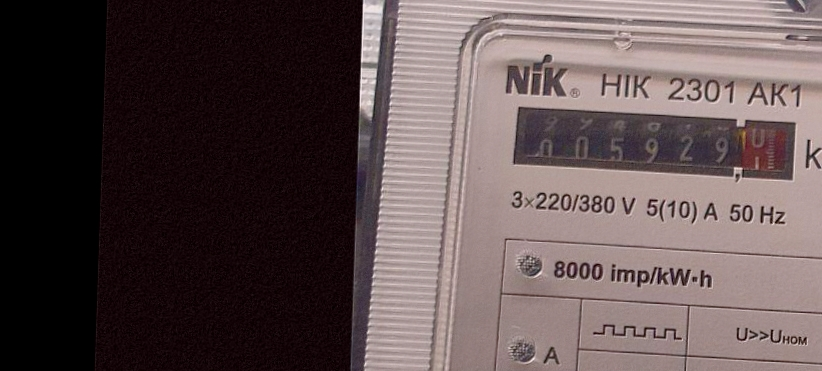0: (573, 133, 593, 161), (536, 133, 558, 157), (750, 126, 769, 149)
2: (677, 131, 697, 165)
5: (608, 134, 627, 162)
9: (641, 134, 663, 165), (713, 133, 733, 166), (542, 114, 561, 132)
screen: (507, 100, 805, 190)
